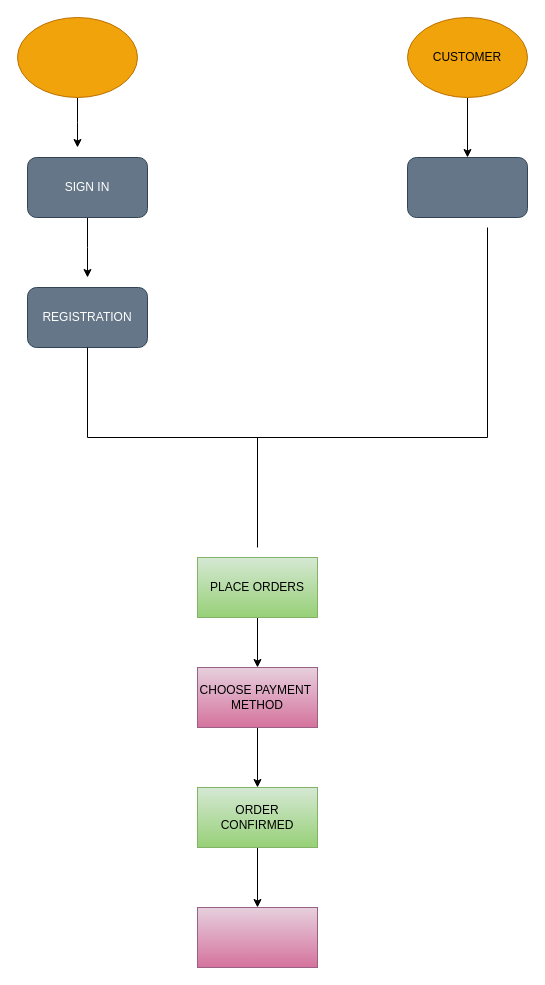
Some shapes in this 545 by 985 pixel diagram are drawn without their labels. The shapes that lost their labels are listed below. From the top down, each one's centre as x and y in pixels, then its label:
At point 77,57: "NEW USER".
At point 467,187: "LOGIN".
At point 257,937: "DELIVERY OF ITEM".
